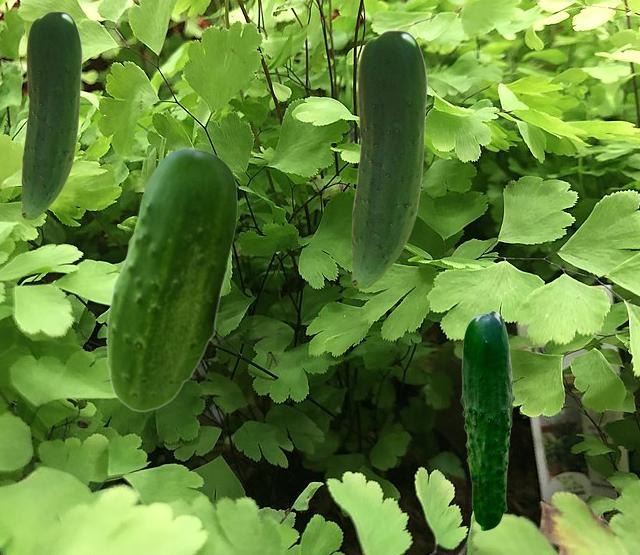cucumber: (106, 147, 236, 411), (351, 30, 426, 288), (21, 11, 81, 219), (460, 310, 514, 530)
